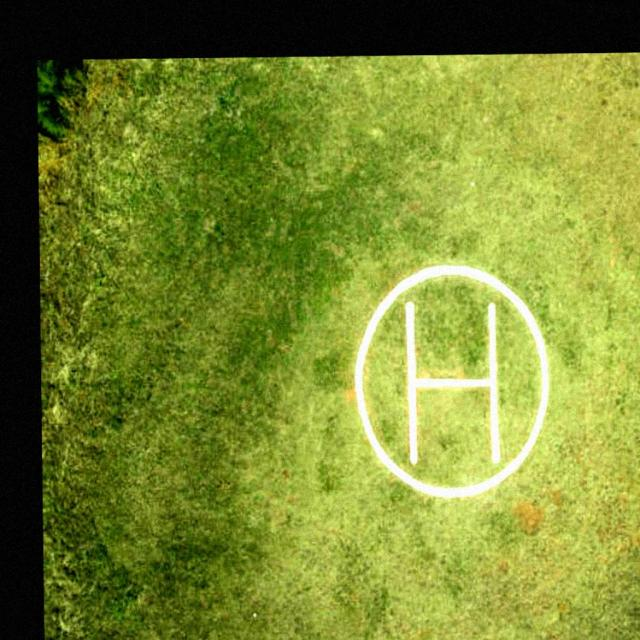helipad: (347, 259, 557, 501)
